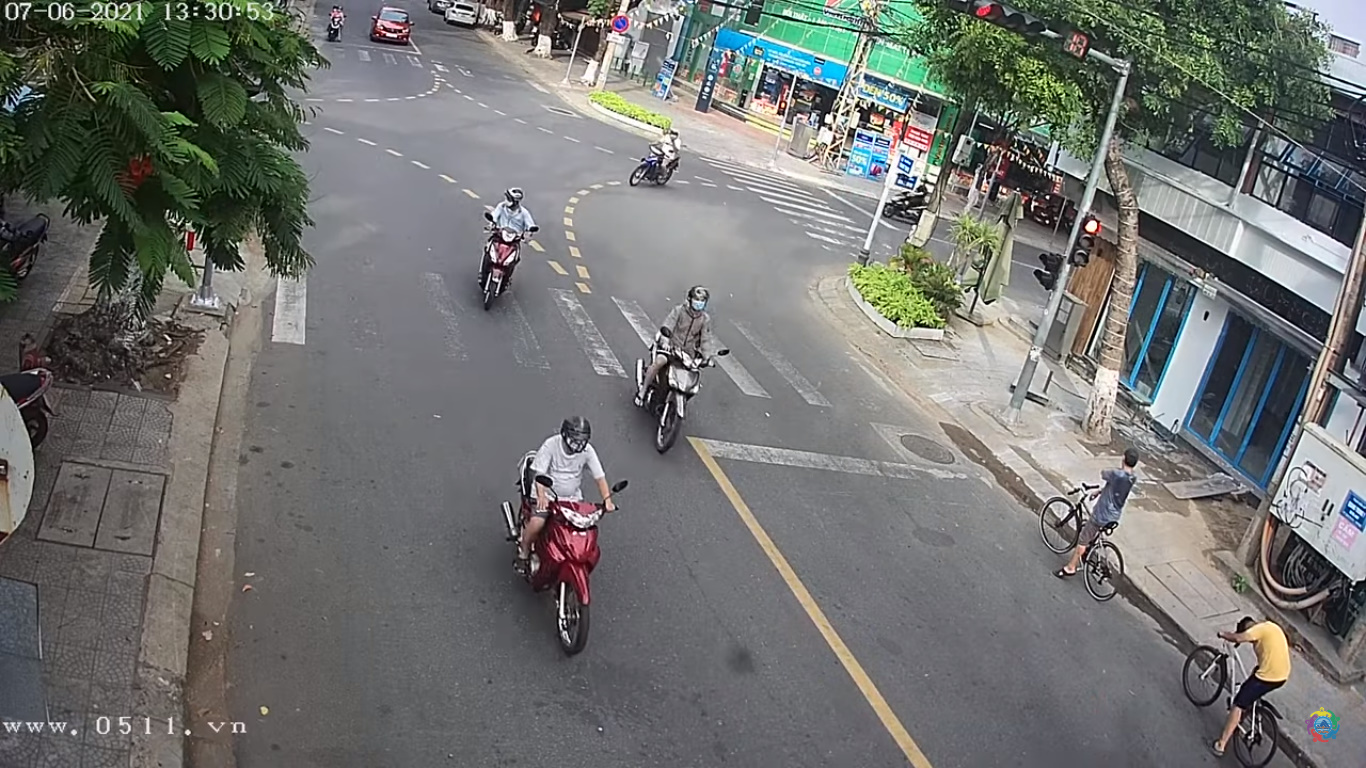motorbike: (509, 421, 618, 653), (637, 280, 719, 451), (473, 192, 537, 309)
